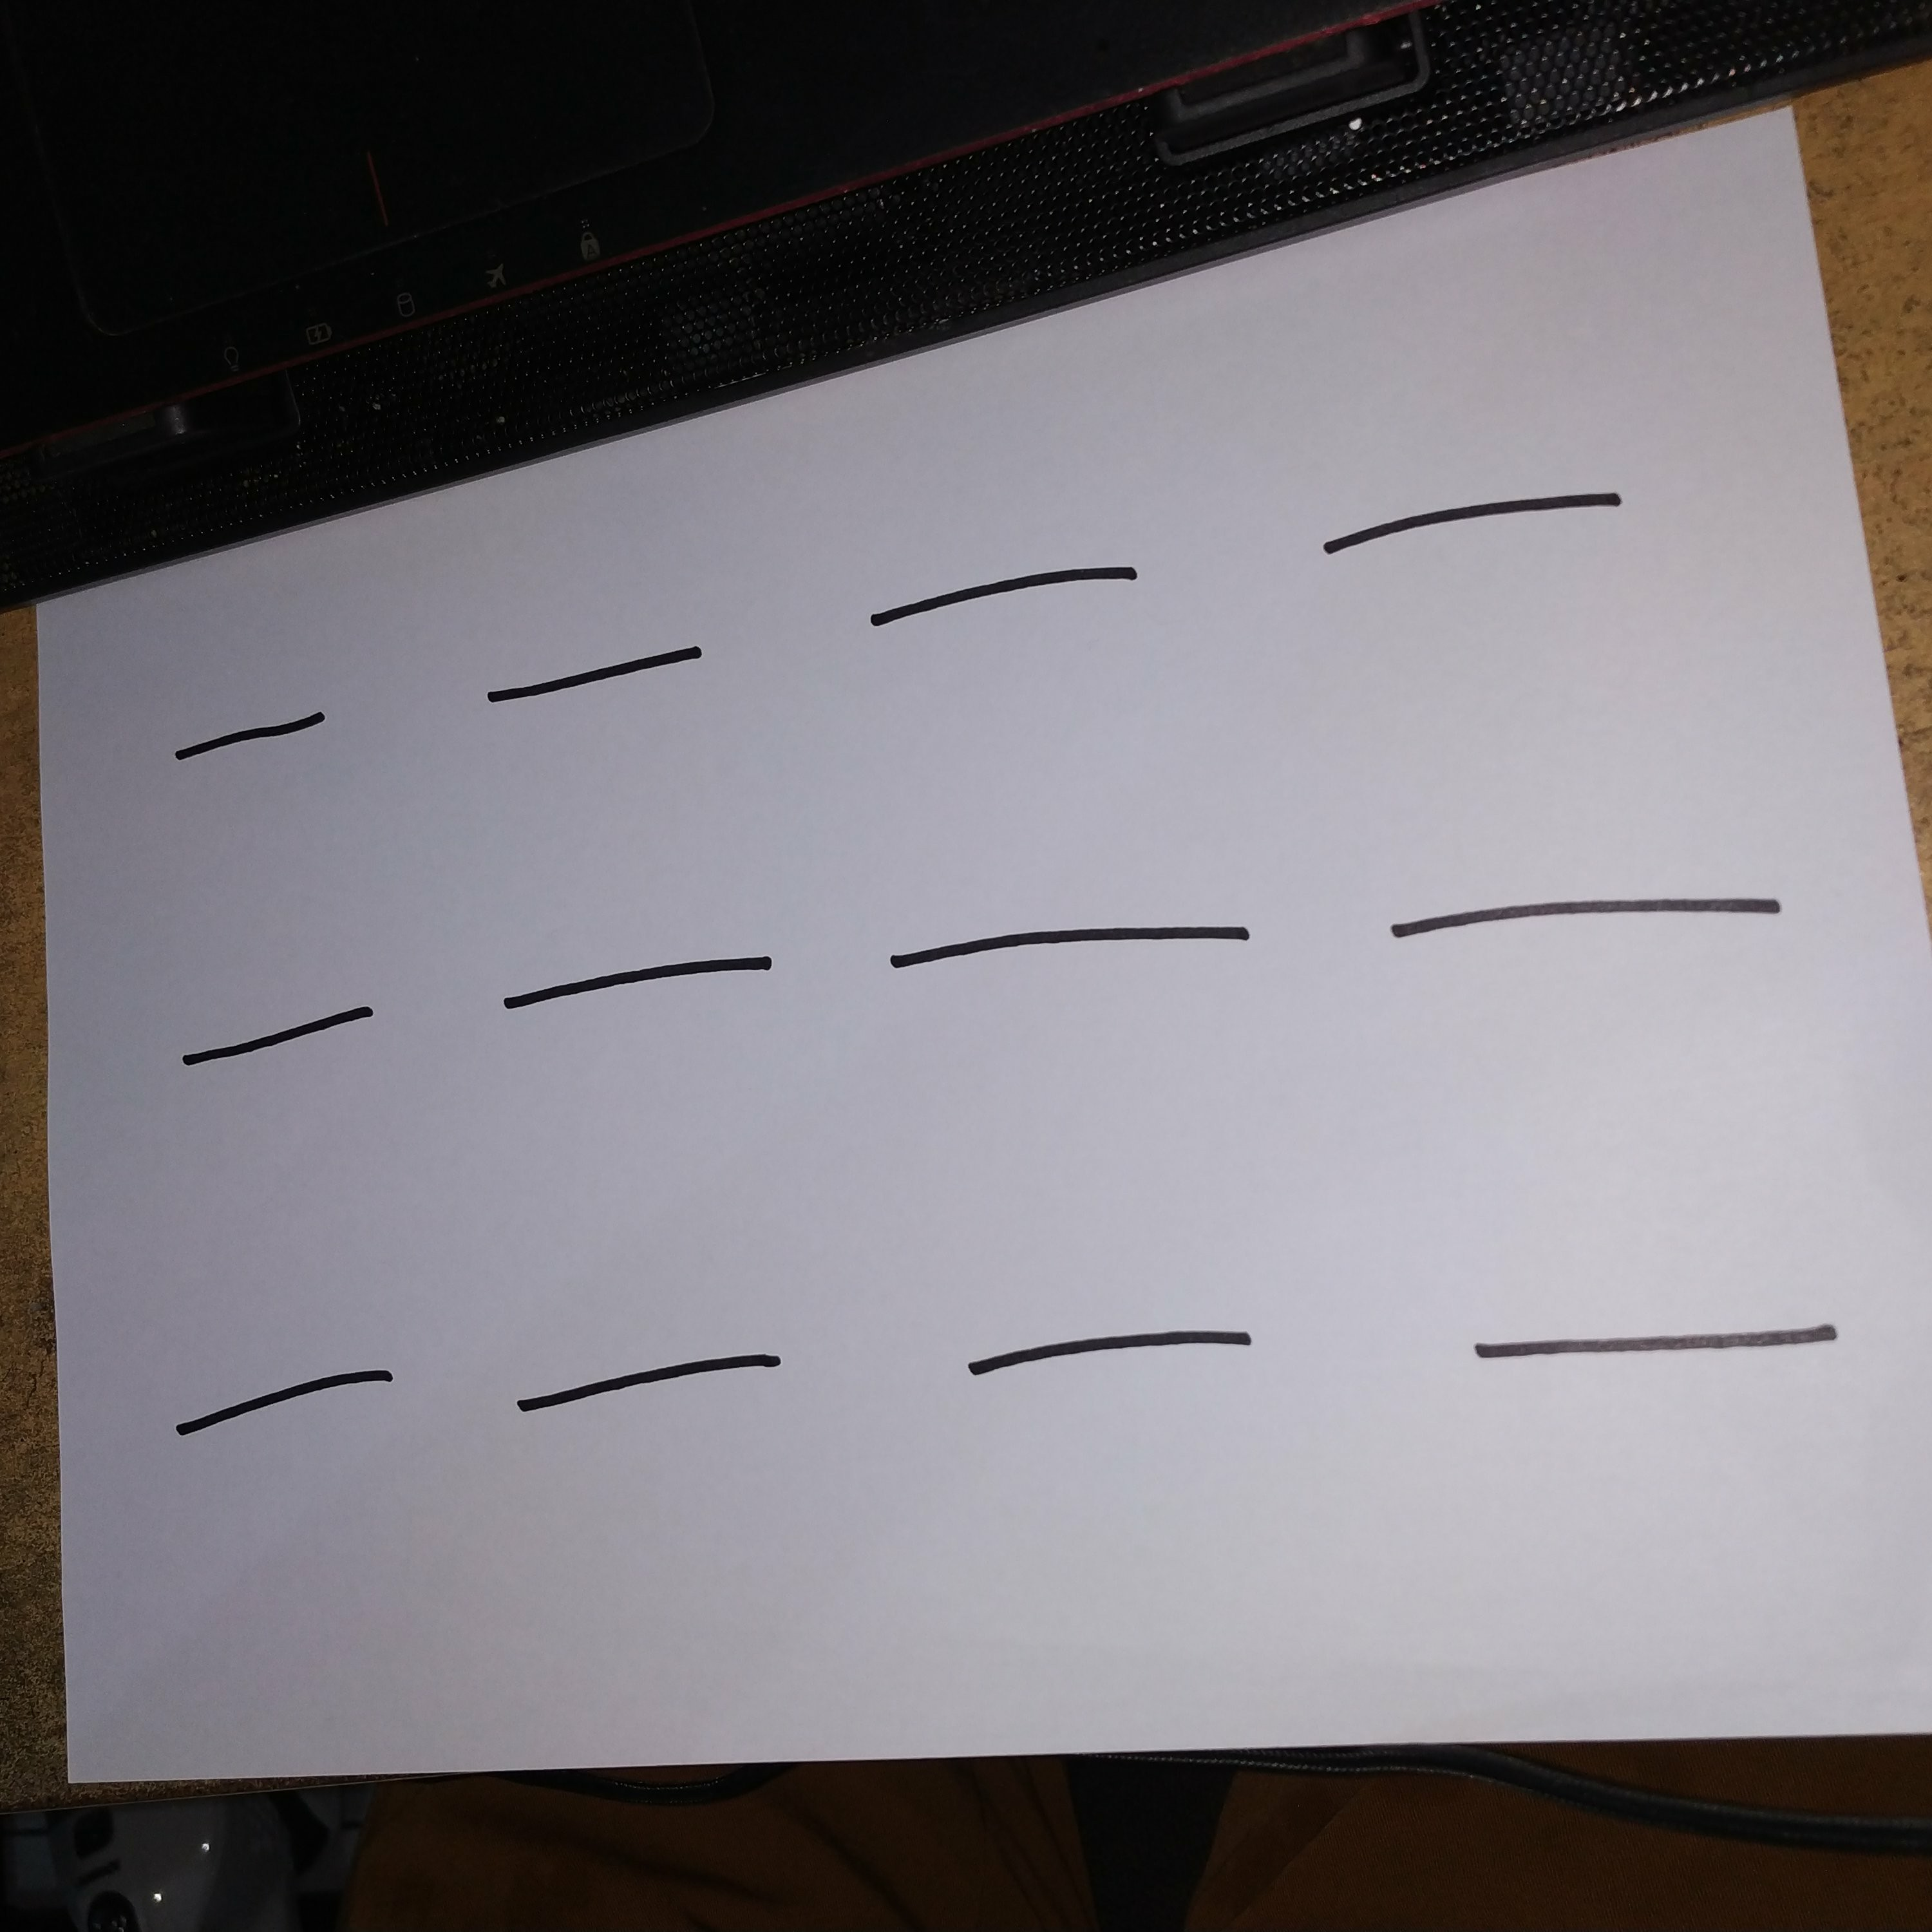min: (1450, 1305, 1895, 1391), (1376, 887, 1846, 965), (1309, 478, 1651, 579), (480, 936, 796, 1032), (946, 1311, 1291, 1397), (858, 916, 1291, 979), (501, 1346, 815, 1430), (855, 552, 1175, 632), (154, 1365, 442, 1452), (470, 638, 726, 727), (160, 997, 412, 1079), (134, 700, 368, 766)
